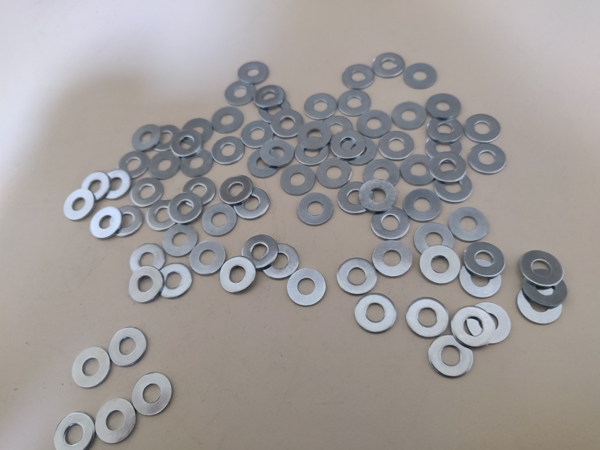circle: (428, 334, 476, 379), (465, 302, 511, 346), (94, 398, 138, 444), (450, 306, 496, 349), (70, 344, 113, 390), (405, 297, 450, 340), (131, 371, 173, 417), (516, 285, 564, 325), (459, 258, 502, 300), (285, 266, 328, 308), (354, 294, 398, 335), (521, 268, 567, 307), (52, 411, 97, 450), (419, 245, 461, 286), (109, 325, 148, 369), (336, 258, 378, 298), (519, 251, 564, 288), (259, 243, 301, 282), (463, 242, 506, 279), (372, 240, 412, 279), (218, 256, 258, 295), (369, 205, 411, 242), (414, 222, 456, 259), (448, 206, 489, 243), (403, 188, 443, 225), (144, 197, 184, 234), (161, 221, 200, 258), (240, 234, 278, 271), (188, 240, 226, 277), (157, 264, 193, 302), (278, 162, 316, 198), (127, 266, 162, 305), (178, 175, 218, 209), (424, 131, 464, 165), (128, 243, 165, 279), (434, 171, 473, 205), (467, 142, 507, 175), (88, 205, 124, 241), (109, 203, 145, 239), (234, 186, 271, 221), (297, 192, 334, 227), (337, 181, 374, 216), (200, 204, 238, 238), (359, 179, 397, 213), (316, 156, 353, 190), (363, 158, 401, 191), (339, 135, 377, 168), (400, 153, 436, 187), (128, 177, 165, 210), (430, 152, 467, 185), (296, 119, 333, 152), (146, 149, 183, 182), (319, 114, 356, 147), (377, 130, 415, 162), (178, 146, 214, 179), (167, 192, 204, 224), (356, 109, 393, 141), (240, 118, 277, 150), (218, 174, 255, 205), (178, 118, 215, 149), (464, 113, 502, 143), (63, 188, 96, 222), (97, 169, 131, 202), (331, 129, 366, 161), (294, 136, 329, 168), (302, 92, 339, 122), (211, 104, 245, 136), (116, 150, 151, 181), (402, 61, 439, 90), (426, 115, 464, 143), (78, 171, 112, 202), (211, 135, 245, 166), (392, 101, 427, 131), (269, 109, 304, 139), (148, 124, 183, 154), (426, 92, 462, 121), (371, 51, 405, 81), (337, 88, 371, 118), (246, 149, 280, 179), (259, 139, 293, 169), (129, 124, 164, 153), (251, 83, 288, 110), (170, 129, 203, 159), (223, 79, 257, 108), (236, 59, 271, 87), (342, 63, 373, 91)
